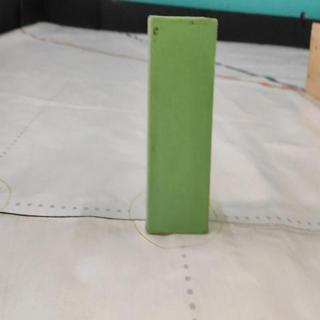greenbox: (145, 13, 218, 236)
